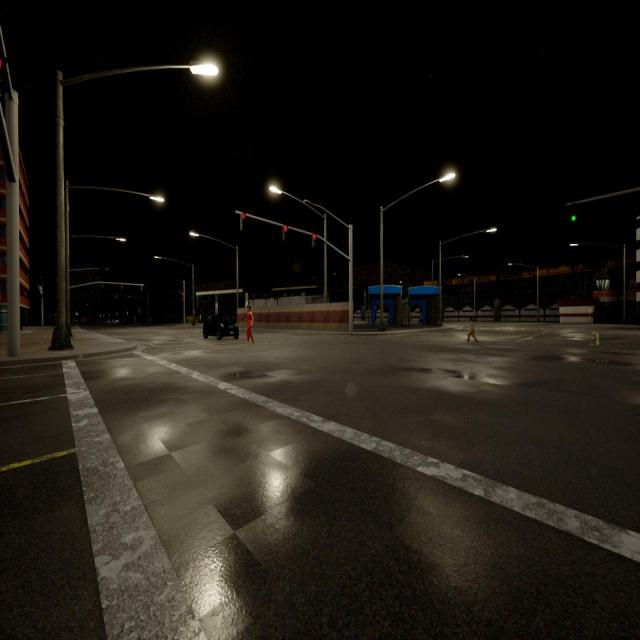Pedestrian: (246, 306, 253, 344), (467, 317, 476, 342)
Traffic_Signs: (588, 306, 592, 312)
Vehicle: (203, 314, 238, 339)
traffic_light: (240, 213, 246, 229), (571, 205, 577, 221), (0, 49, 4, 73), (283, 226, 287, 240), (312, 234, 316, 247), (121, 284, 123, 289), (141, 285, 143, 290), (116, 295, 118, 298), (102, 284, 103, 288), (128, 296, 130, 298)
